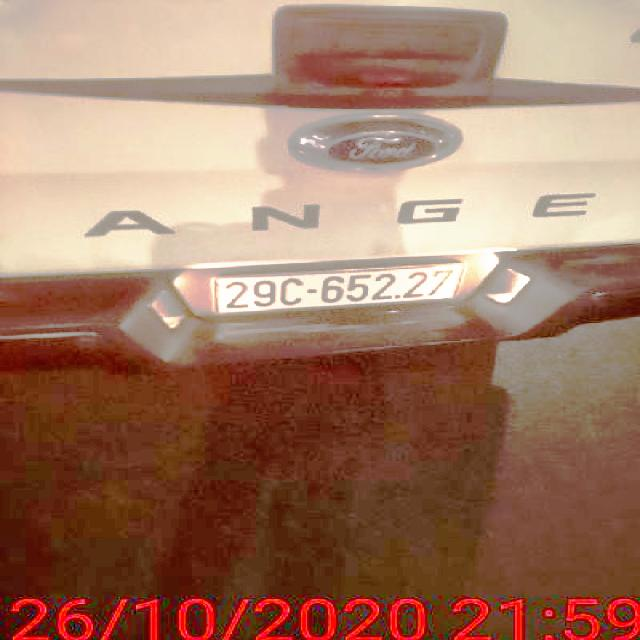license_plate: (213, 260, 463, 319)
